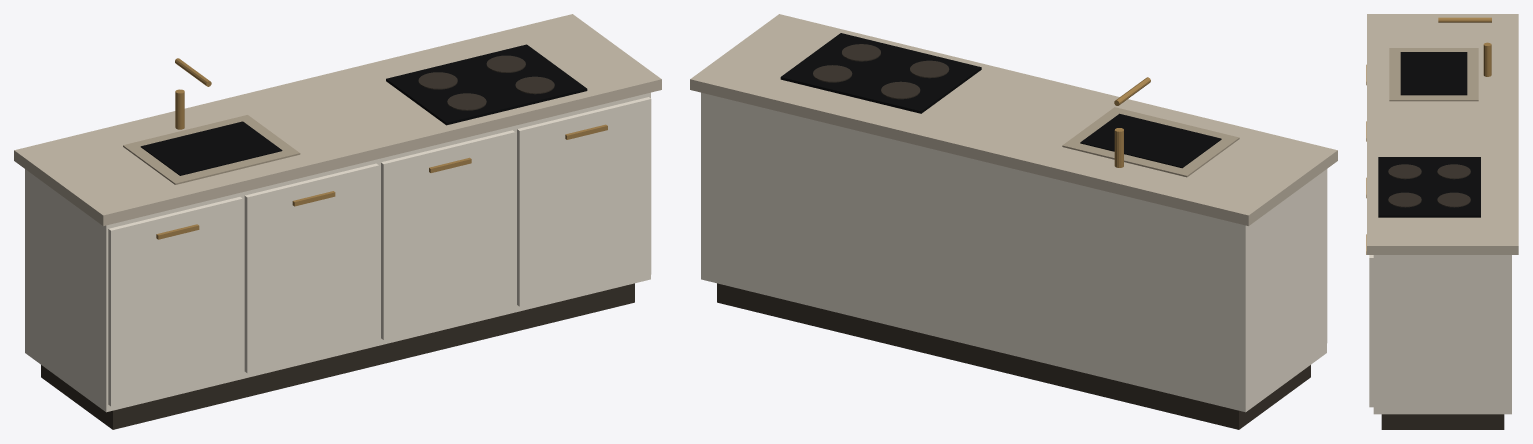
The picture shows the model from 3 angles, left to right: view 1: azimuth 30°, elevation 25°; view 2: azimuth 150°, elevation 25°; view 3: azimuth 270°, elevation 25°; orthographic projection. The views are drawn at different scales.
Visible parts, largest first — view 1: kitchen; view 2: kitchen; view 3: kitchen.
Part boxes in pixels (box(x1,y1,x2,y2)): kitchen: box(14, 14, 661, 429); kitchen: box(690, 14, 1337, 429); kitchen: box(1366, 14, 1518, 429).
Bounding box in the file's own units: 2.46 × 1.23 × 0.684.
